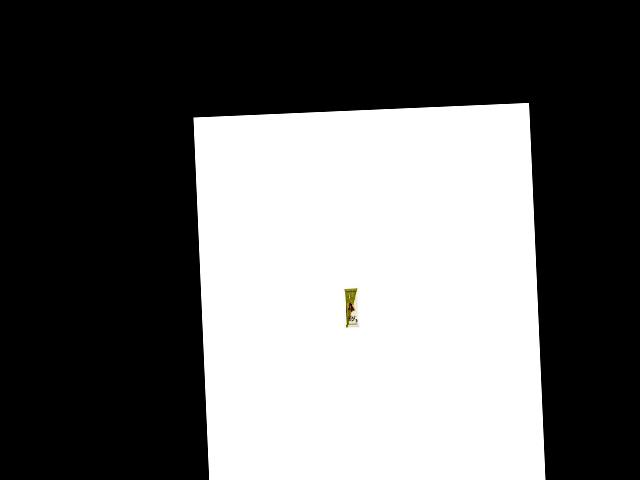chocolate: (340, 286, 362, 330)
